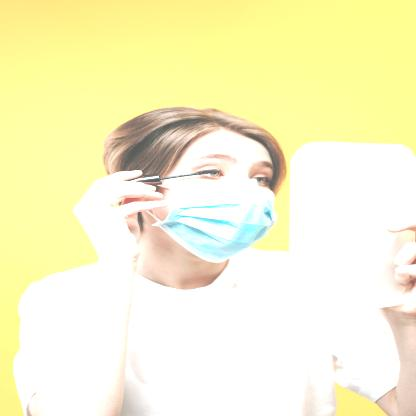dress: (11, 247, 410, 416), (143, 177, 280, 262)
